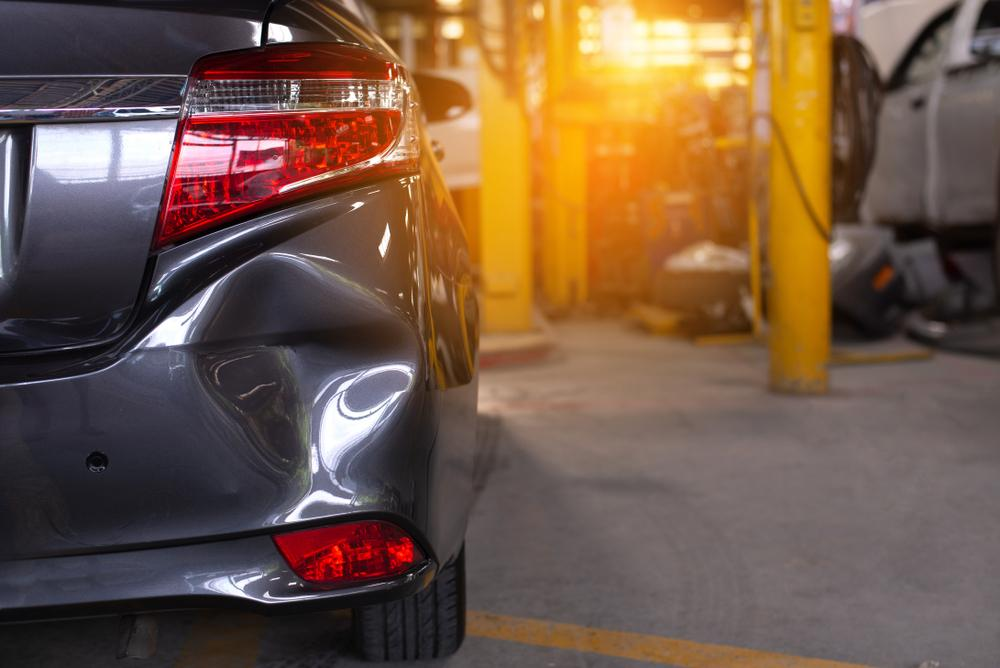dent: (192, 257, 417, 502)
